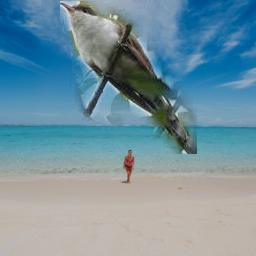Cuckoo: (60, 1, 197, 154)
